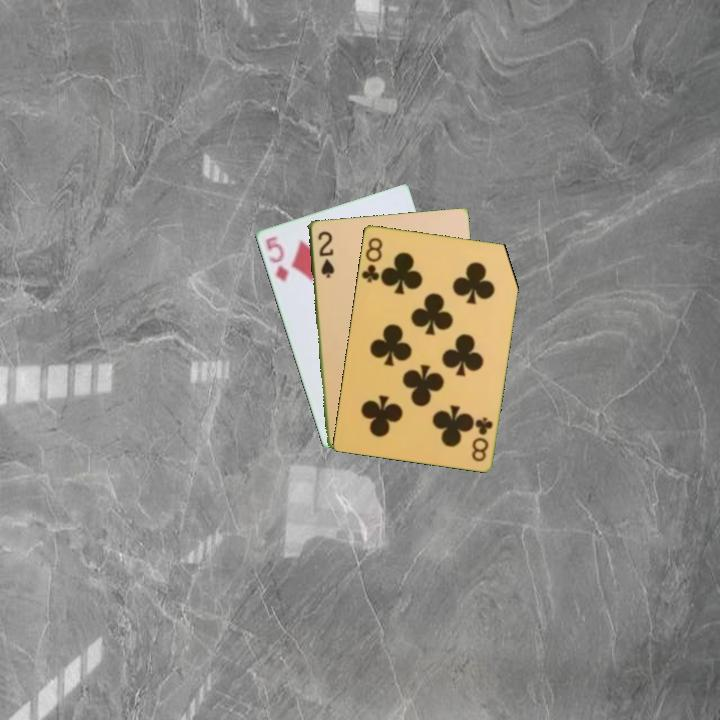2s: (314, 227, 337, 280)
5d: (262, 232, 291, 284)
8c: (358, 233, 385, 285), (468, 413, 495, 464)
